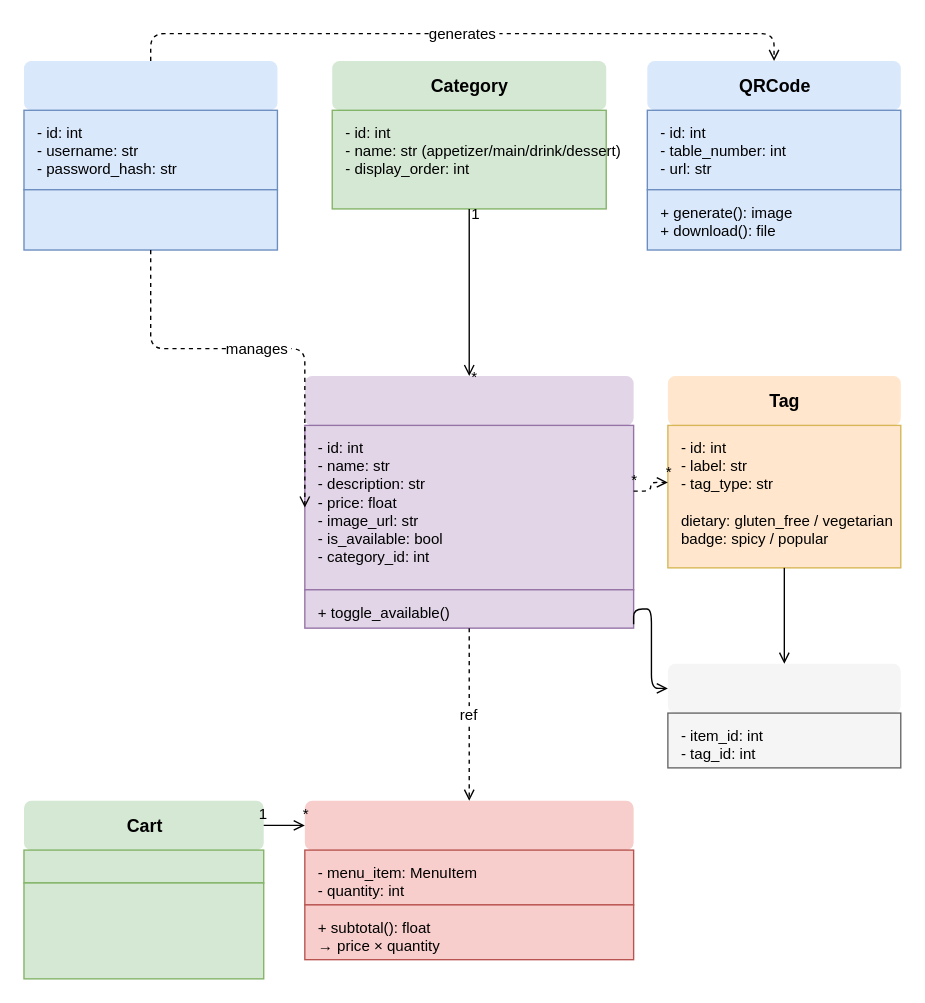
Some shapes in this 925 by 1003 pixel diagram are drawn without their labels. Here are the shapes that lost their labels. From the top down, the box of each, then its label:
(23, 60, 277, 110): Admin
(23, 188, 277, 250): + login() / logout() + manage_menu()
(304, 375, 633, 425): MenuItem
(667, 663, 900, 712): MenuItemTag
(304, 800, 633, 849): CartItem
(23, 849, 264, 883): - items: [CartItem]
(23, 882, 264, 979): + add_item() + remove_item() + total(): float + filter_by_tag()
